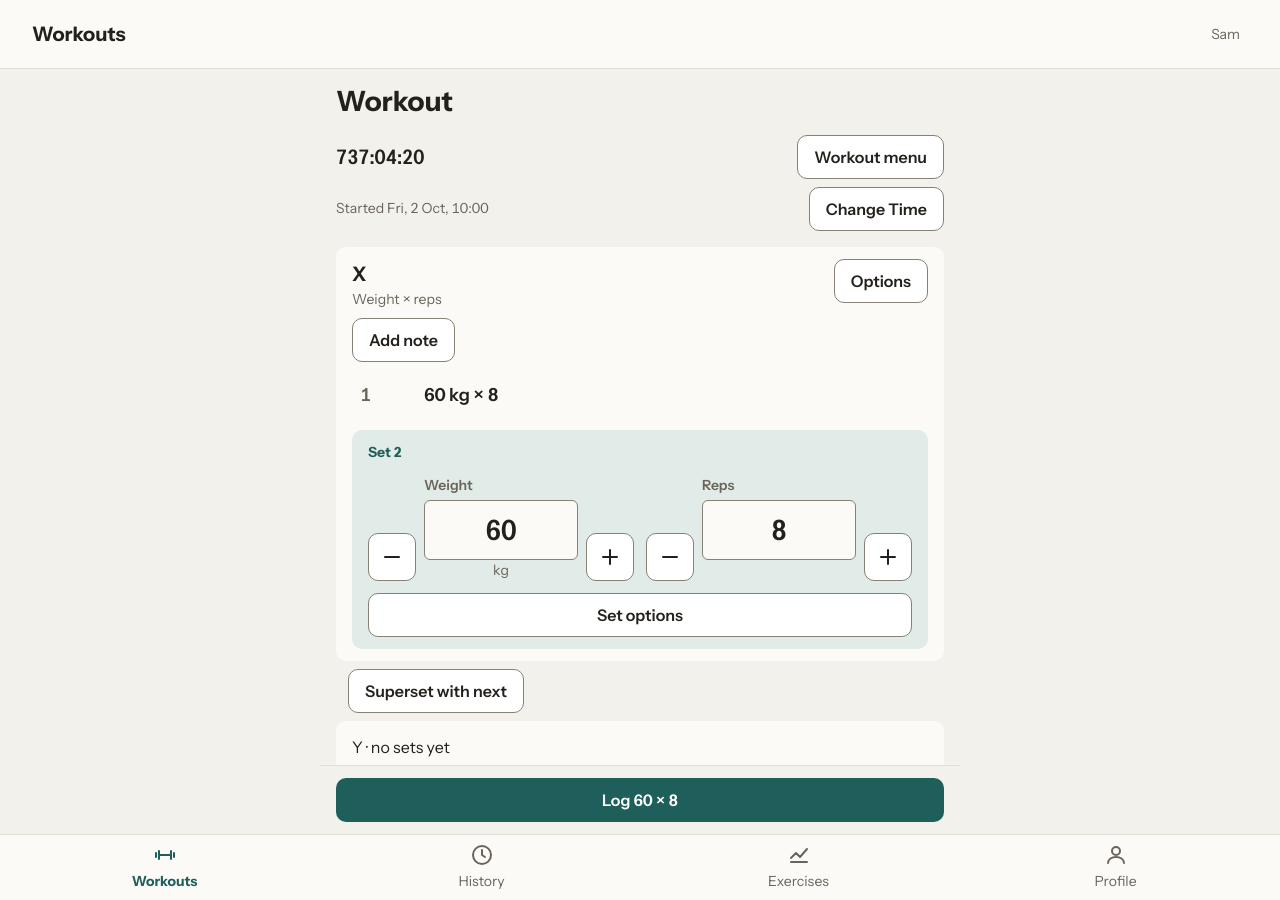
Test: 10.3 AC27 — the Note action and sheet › Save trims, sends exactly { notes }, and the card shows the text; clearing sends notes: null and the label returns
This screenshot has width=1280, height=900.
Expected: the heading "Workout" is shown, [336,84,453,118]
Click the button with aria-label "Add note for X" at (403, 340), box [352,318,455,362]
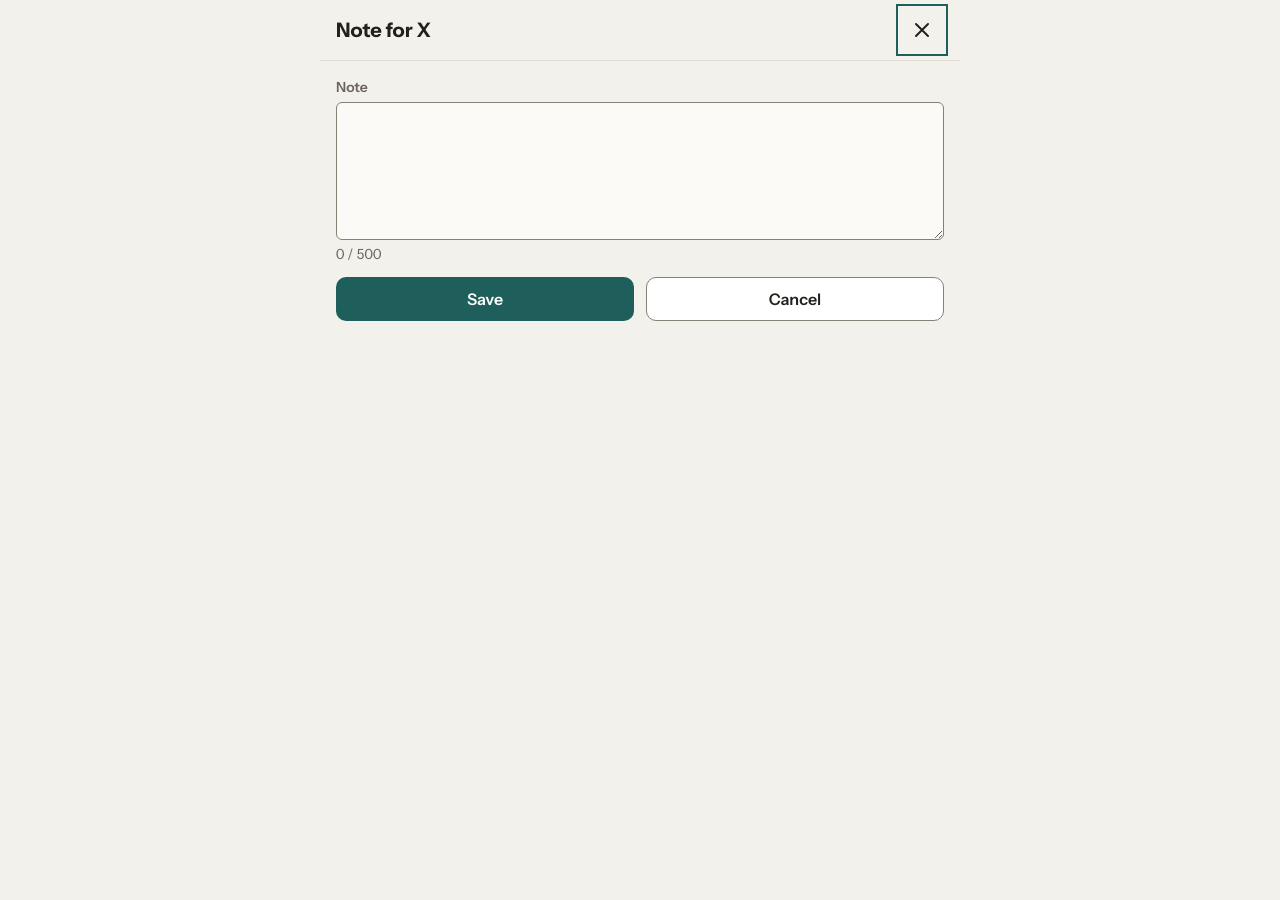
Type "  Left shoulder tight  " into the text box labelled "Note" at (640, 171), box [336,102,944,240]
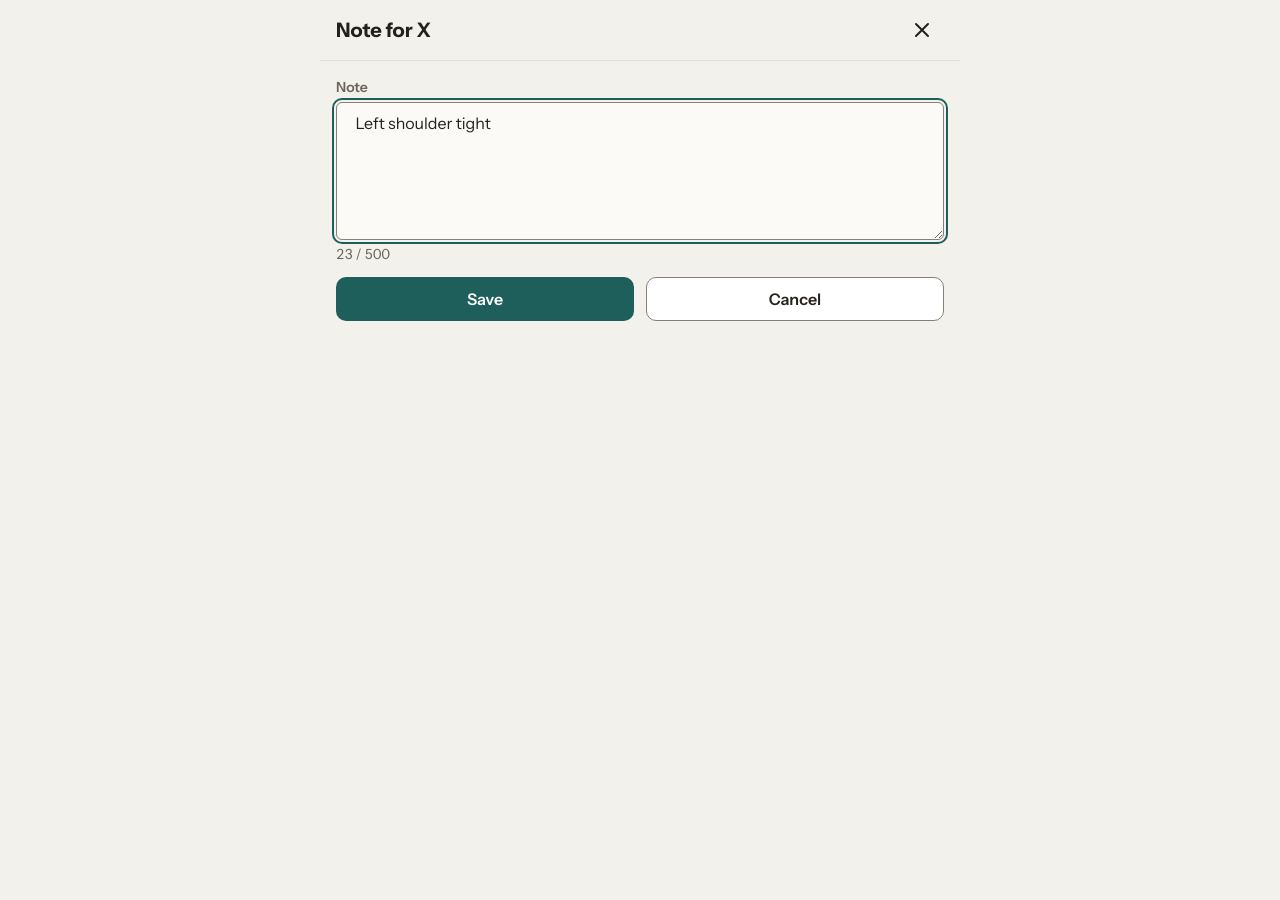
Click the button "Save" at (485, 299), box [336,277,634,321]
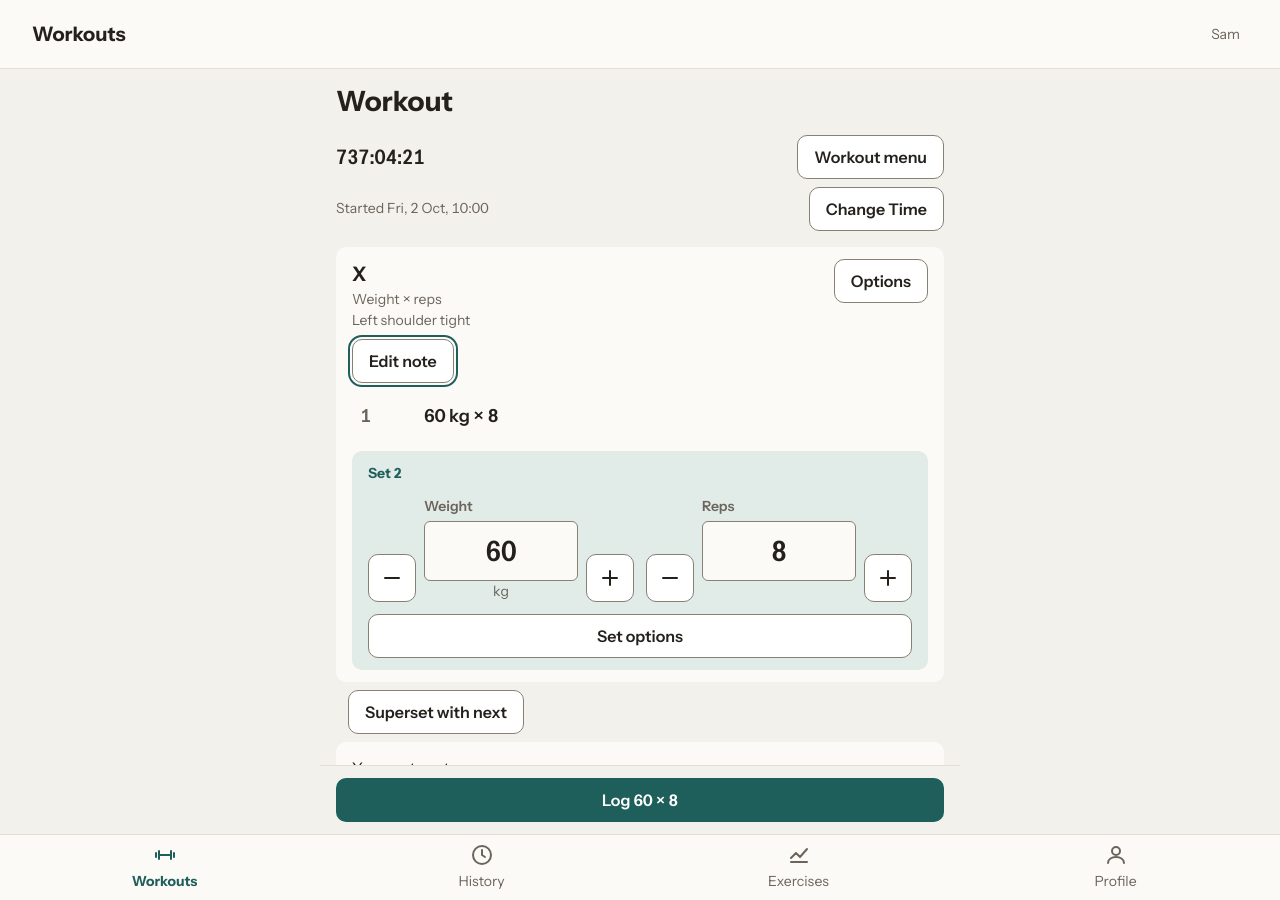
Now the text "Left shoulder tight" is shown, box [352,310,470,331]
Now the button with aria-label "Edit note for X" is shown
Click the button with aria-label "Edit note for X" at (403, 361), box [352,339,454,383]
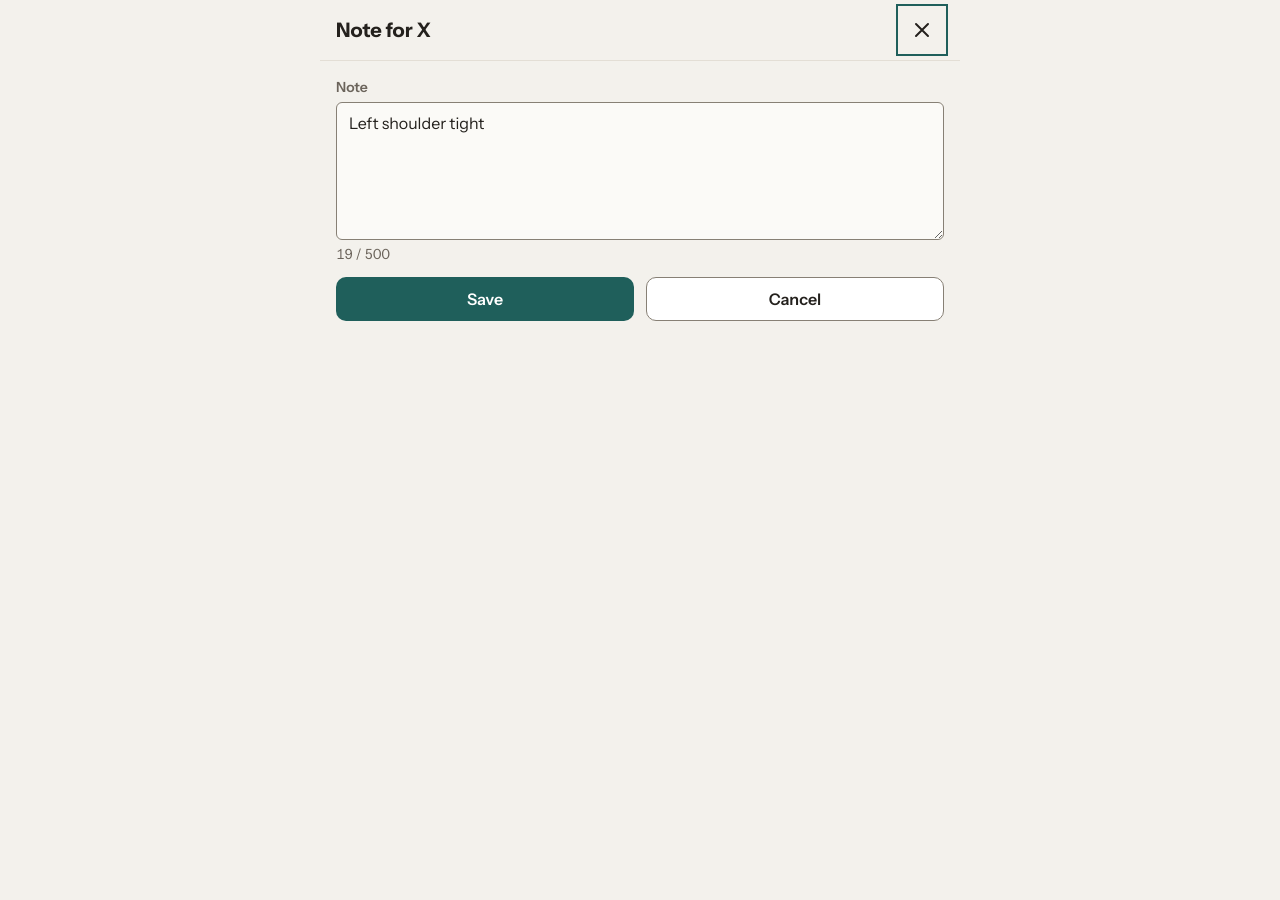
Clear the text box labelled "Note" at (640, 171), box [336,102,944,240]
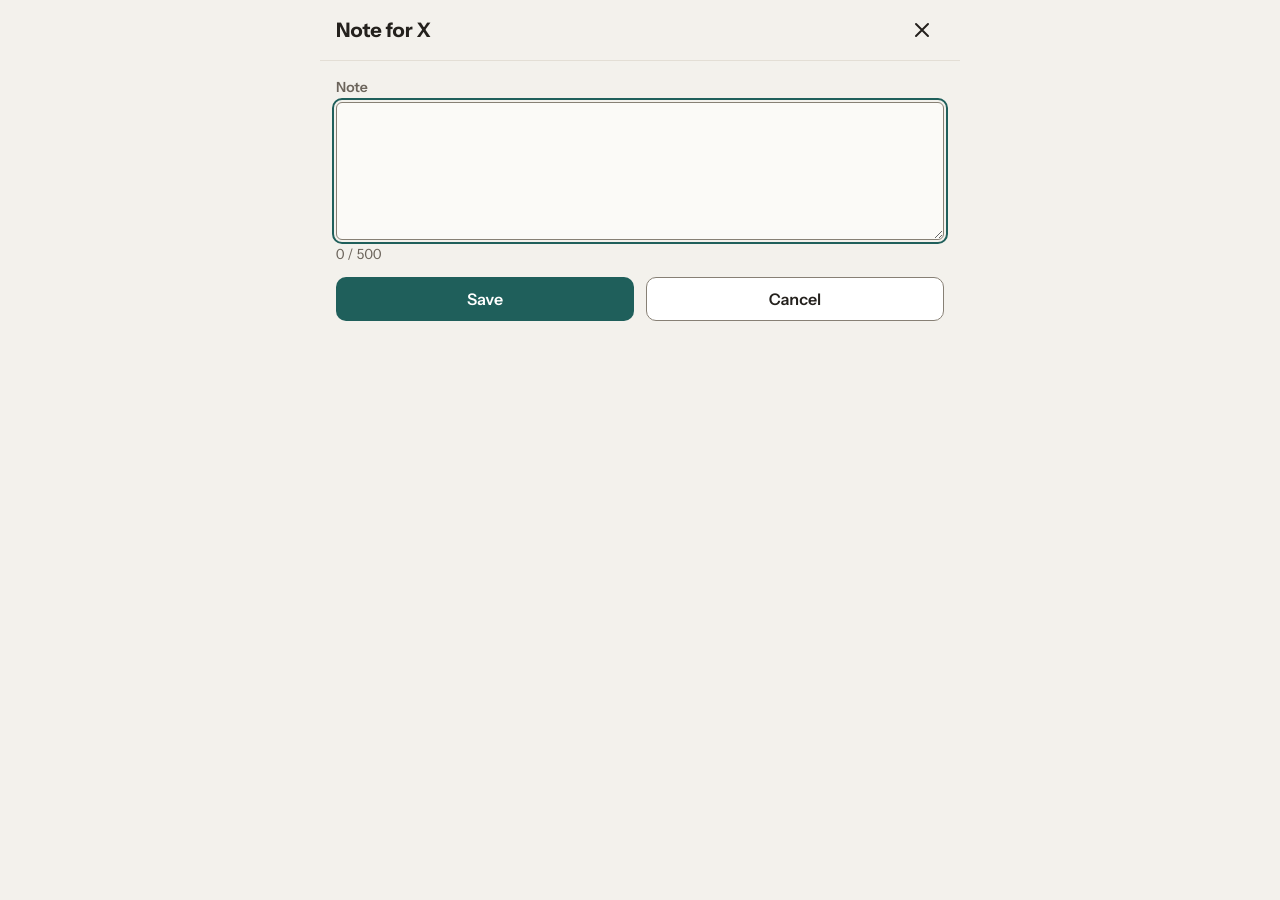
Click the button "Save" at (485, 299), box [336,277,634,321]
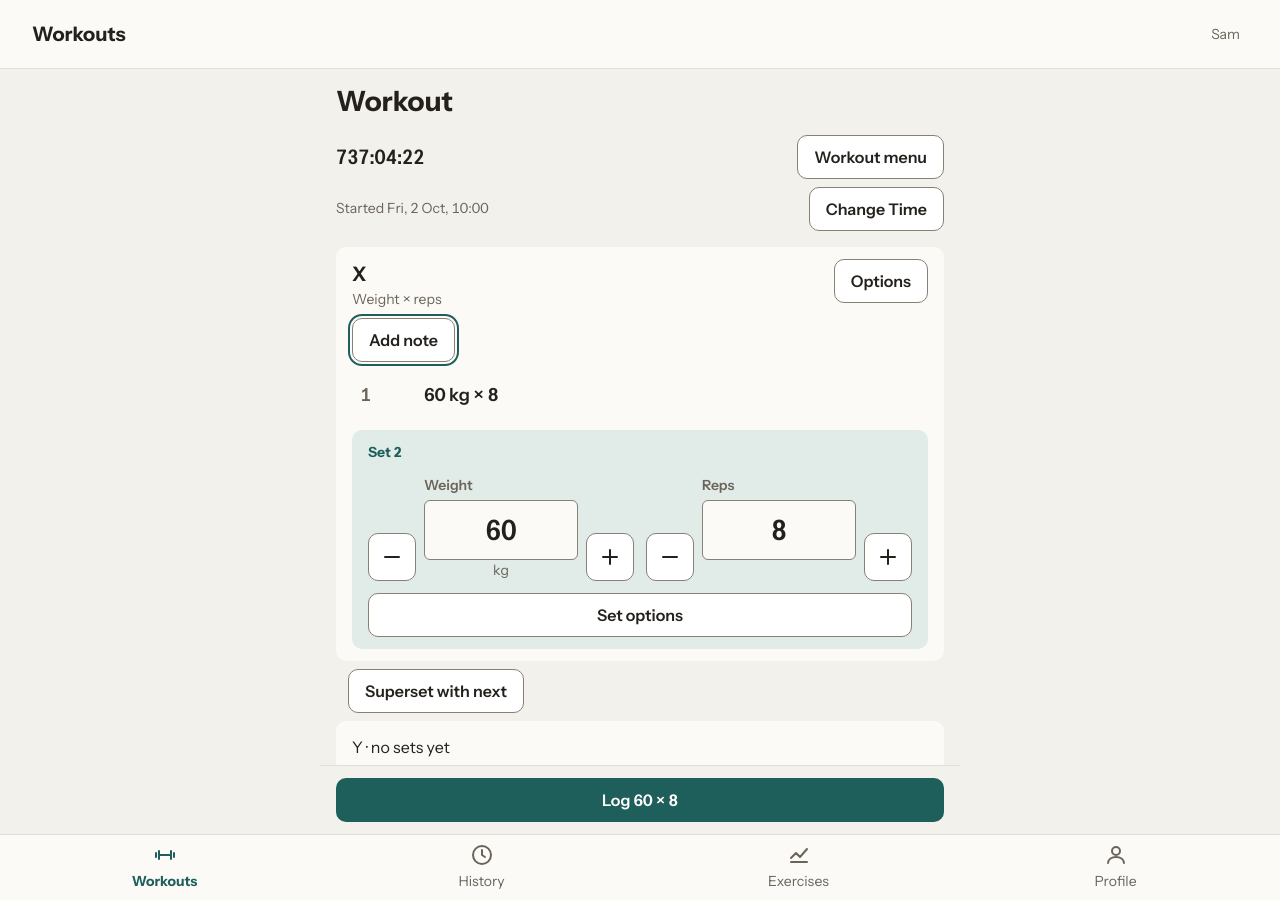
Now the button with aria-label "Add note for X" is shown, box [352,318,455,362]
